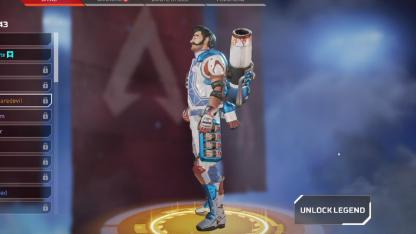Target: (184, 23, 249, 191)
